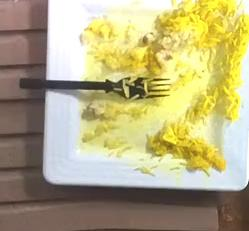rice: (138, 1, 249, 123), (146, 121, 224, 173)
